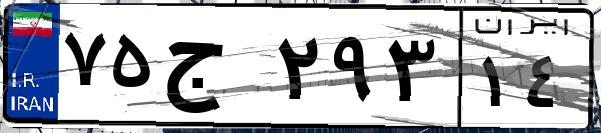1: (475, 38, 525, 113)
2: (270, 28, 330, 110)
3: (385, 28, 445, 110)
4: (525, 38, 570, 115)
5: (110, 28, 158, 98)
7: (57, 26, 110, 100)
9: (330, 28, 385, 110)
ج: (158, 20, 270, 120)
